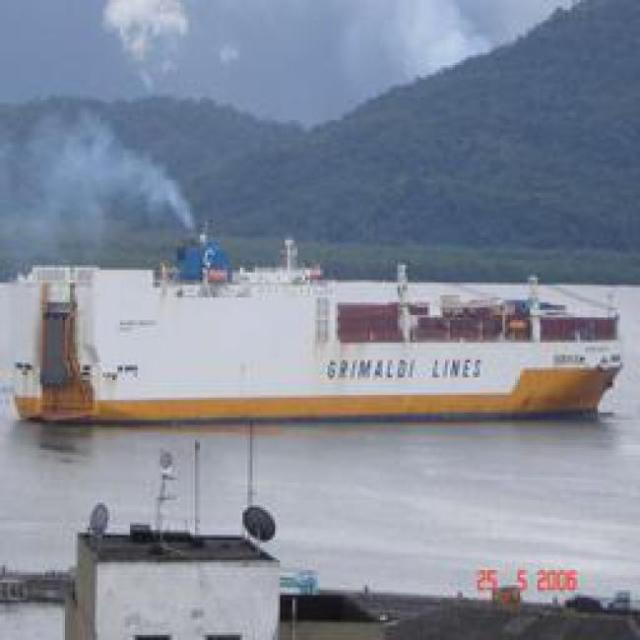boat: (22, 234, 625, 432)
